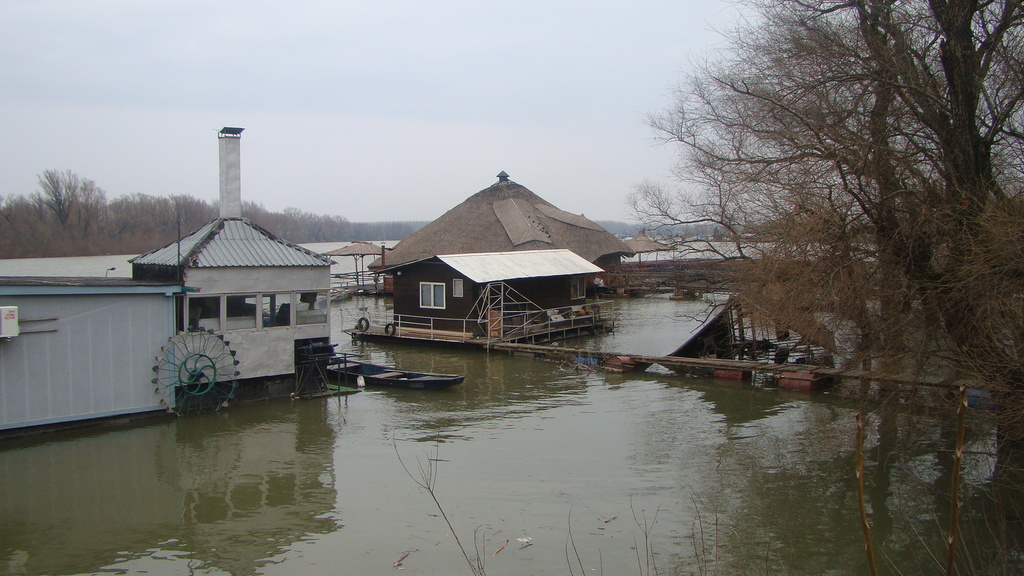Tree: (622, 0, 1024, 475)
